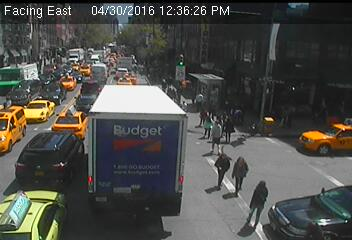neg: (45, 86, 85, 139), (10, 36, 45, 83), (97, 35, 127, 75), (2, 184, 29, 220), (90, 110, 116, 144), (173, 25, 197, 57), (55, 32, 78, 62), (142, 119, 164, 149), (40, 164, 62, 193), (113, 164, 133, 191), (119, 64, 135, 86)
pos: (244, 178, 279, 225), (204, 149, 235, 190), (226, 155, 254, 193), (205, 120, 228, 149), (233, 102, 251, 127), (192, 88, 210, 112)
